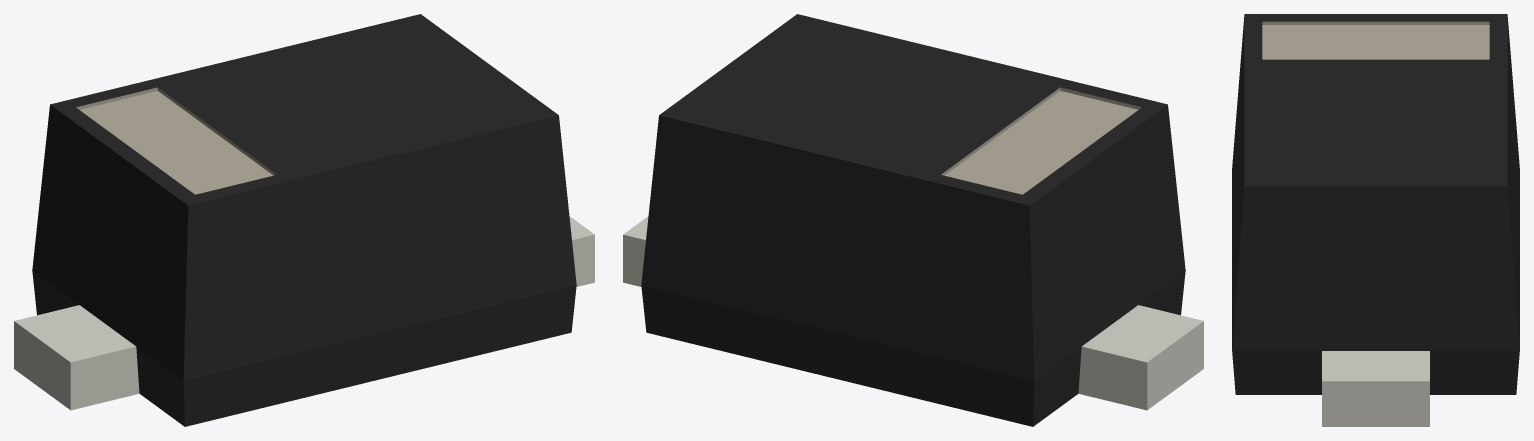
The model's file is D_SOD-523.glb.
3 views of the same model, side by side, from view 1: azimuth 30°, elevation 25°; view 2: azimuth 150°, elevation 25°; view 3: azimuth 270°, elevation 25° (orthographic). The views are drawn at different scales.
Parts seen in each view (by area): view 1: =>[0:1:1:3]; view 2: =>[0:1:1:3]; view 3: =>[0:1:1:3].
Boxes of the visible parts, bbox=[...] form: =>[0:1:1:3]: bbox=[14, 14, 594, 426]; =>[0:1:1:3]: bbox=[623, 14, 1203, 426]; =>[0:1:1:3]: bbox=[1232, 14, 1519, 426].
Bounding box in the file's own units: 0.0016 × 0.00063 × 0.0008.
